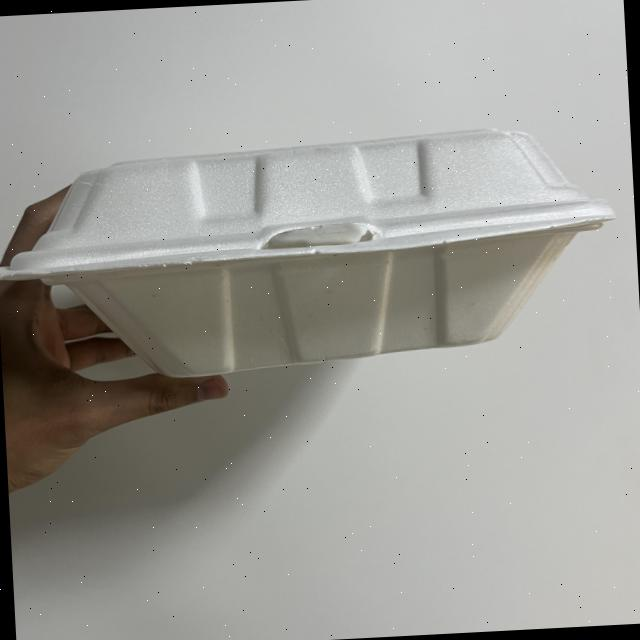styrofoam: (0, 119, 623, 389)
